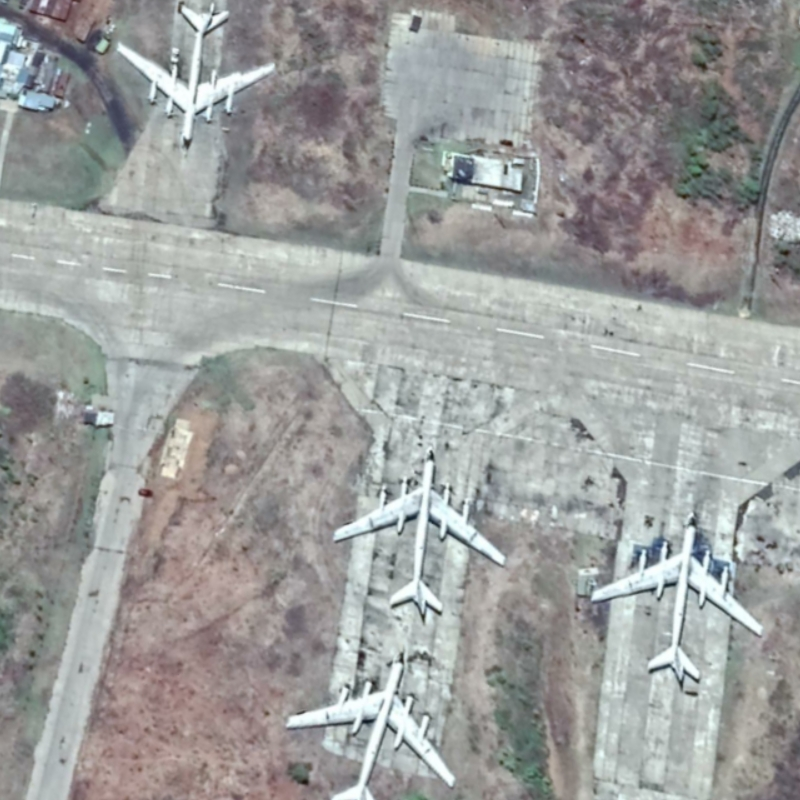A17: (330, 444, 512, 622), (584, 514, 765, 691), (283, 647, 464, 800), (111, 2, 279, 152)
